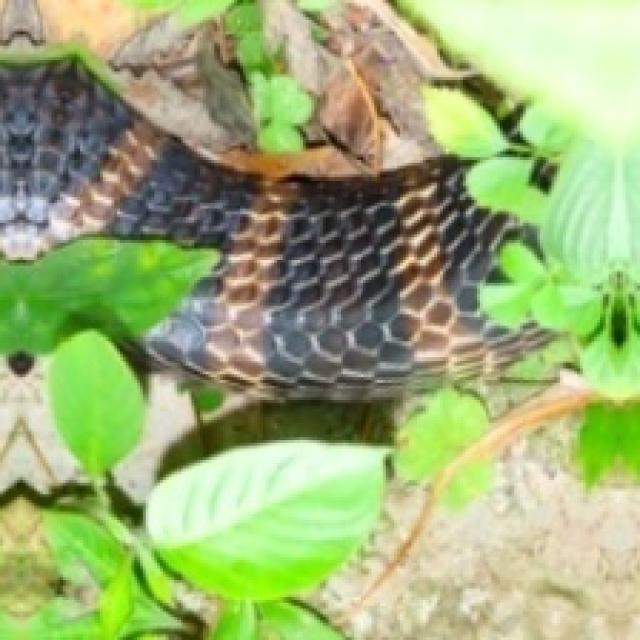king cobra: (0, 0, 537, 397), (0, 51, 540, 397)
